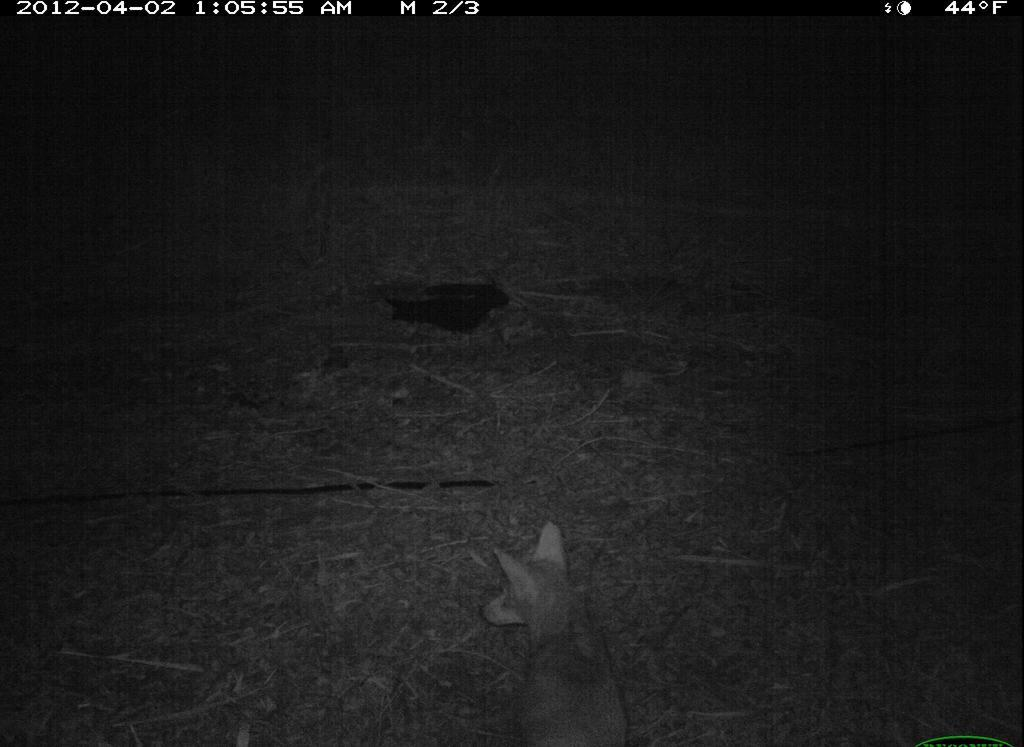coyote: (463, 512, 649, 747)
